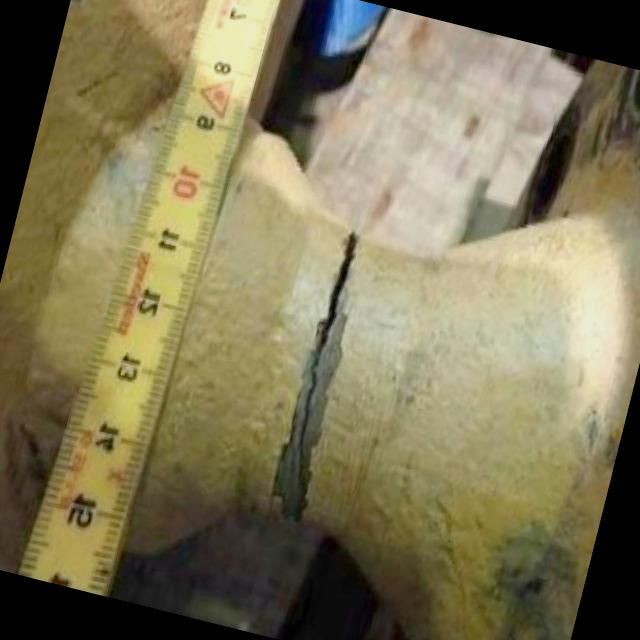crack: (284, 228, 362, 472)
